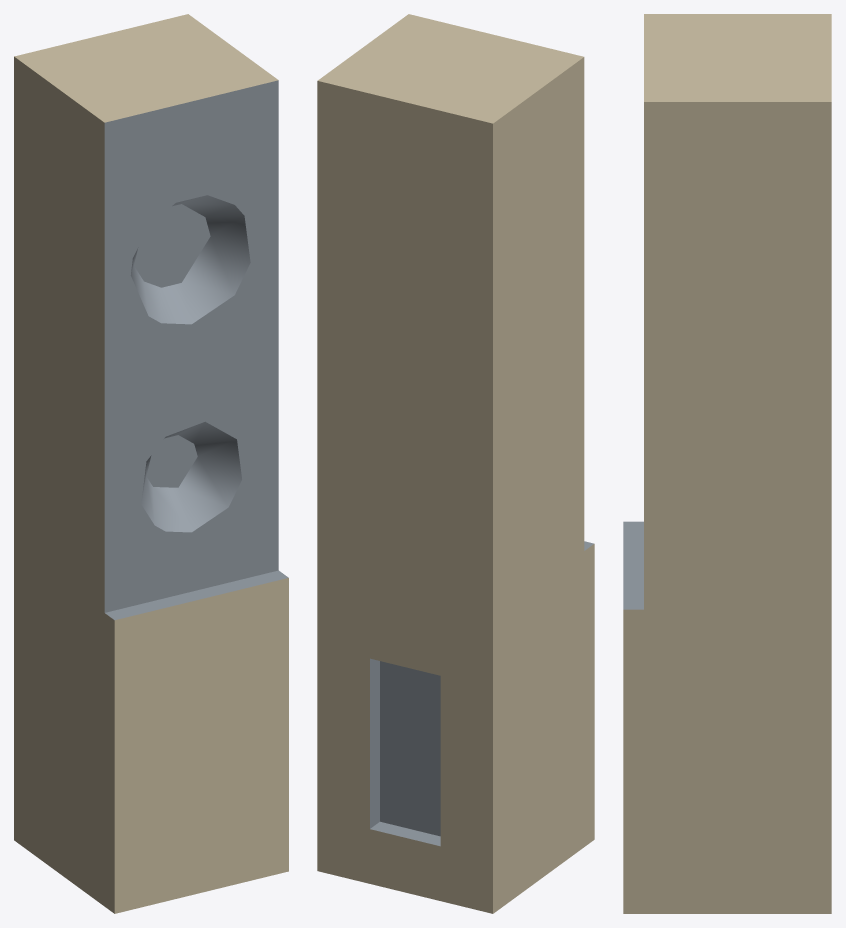
The model's file is cc0-speaker-lod1.glb.
3 renders of one model, left to right at view 1: azimuth 30°, elevation 25°; view 2: azimuth 150°, elevation 25°; view 3: azimuth 270°, elevation 25°, orthographic. The views are drawn at different scales.
Visible parts, largest first — view 1: part_0; view 2: part_0; view 3: part_0.
Boxes of the visible parts, x1,y1,x2,y2 form: part_0: (14,14,288,913); part_0: (317,14,594,913); part_0: (623,14,831,913).
Bounding box in the file's own units: 0.148 × 0.6364 × 0.148.
